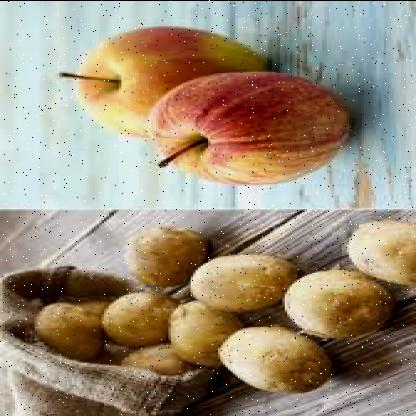apple: (66, 23, 272, 141), (152, 68, 341, 183)
damaged_apple: (210, 327, 330, 394), (280, 272, 386, 334), (190, 252, 292, 312), (119, 228, 203, 288), (166, 298, 228, 368), (342, 223, 414, 280), (96, 294, 168, 344)
